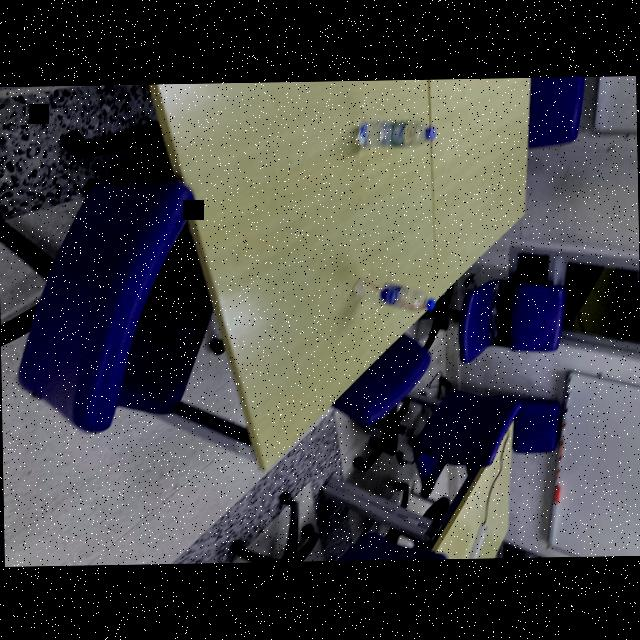plastic_bottle: (348, 274, 438, 314), (348, 116, 438, 150)
plastic_bottle_cap: (425, 124, 436, 140), (425, 296, 436, 308)
